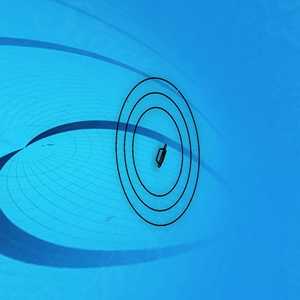circle: (107, 70, 201, 221)
submarine: (155, 144, 168, 166)
